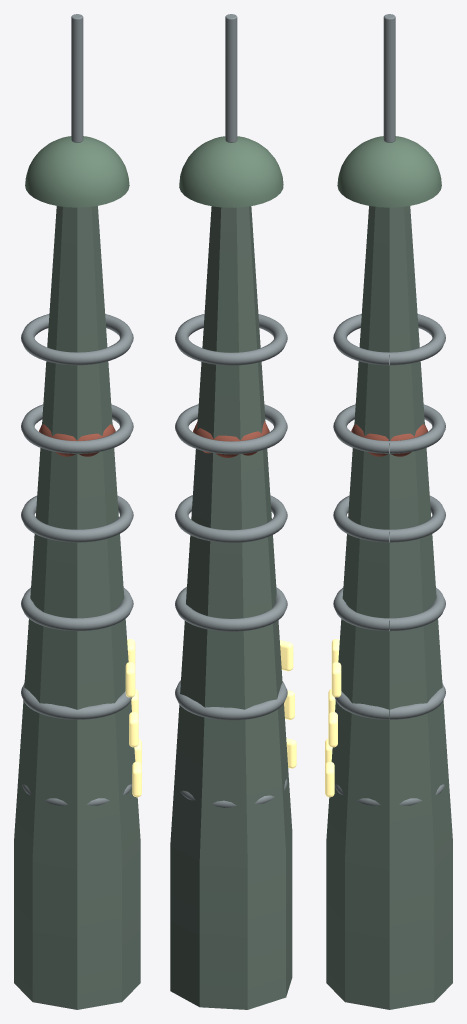
3 renders of one model, left to right at view 1: azimuth 90°, elevation 25°; view 2: azimuth 150°, elevation 25°; view 3: azimuth 270°, elevation 25°, orthographic.
Visible parts, largest first — view 1: Tapered spire, Sensor pickup cap, Sensor mast collar.007, Sensor mast collar.006, Sensor mast collar.005, Sensor mast collar.004, Aerial stem, Sensor mast collar.003, Spire collar, Inset service window.004, Sensor mast collar.002, Inset service window.002 (+1 smaller); view 2: Tapered spire, Sensor pickup cap, Sensor mast collar.007, Sensor mast collar.006, Sensor mast collar.005, Sensor mast collar.004, Aerial stem, Sensor mast collar.003, Spire collar, Inset service window.004, Sensor mast collar.002; view 3: Tapered spire, Sensor pickup cap, Sensor mast collar.007, Sensor mast collar.006, Sensor mast collar.005, Sensor mast collar.004, Aerial stem, Sensor mast collar.003, Spire collar, Inset service window.005, Sensor mast collar.002, Inset service window.003 (+1 smaller).
Part boxes in pixels (bbox=[...]): Tapered spire: bbox=[14, 206, 140, 1009]; Sensor pickup cap: bbox=[25, 136, 129, 207]; Sensor mast collar.007: bbox=[21, 314, 133, 365]; Sensor mast collar.006: bbox=[21, 404, 133, 453]; Sensor mast collar.005: bbox=[21, 495, 133, 542]; Sensor mast collar.004: bbox=[21, 587, 133, 631]; Aerial stem: bbox=[71, 14, 83, 142]; Sensor mast collar.003: bbox=[21, 683, 132, 719]; Spire collar: bbox=[39, 424, 115, 456]; Inset service window.004: bbox=[125, 662, 135, 697]; Sensor mast collar.002: bbox=[22, 784, 132, 805]; Inset service window.002: bbox=[129, 712, 138, 747]; Tapered spire: bbox=[170, 206, 292, 1009]; Sensor pickup cap: bbox=[179, 136, 283, 207]; Sensor mast collar.007: bbox=[175, 314, 287, 365]; Sensor mast collar.006: bbox=[175, 404, 287, 454]; Sensor mast collar.005: bbox=[175, 495, 287, 542]; Sensor mast collar.004: bbox=[175, 587, 287, 631]; Aerial stem: bbox=[225, 14, 237, 142]; Sensor mast collar.003: bbox=[175, 680, 287, 720]; Spire collar: bbox=[193, 421, 269, 457]; Inset service window.004: bbox=[280, 640, 293, 671]; Sensor mast collar.002: bbox=[180, 779, 287, 807]; Tapered spire: bbox=[326, 206, 452, 1009]; Sensor pickup cap: bbox=[337, 136, 441, 207]; Sensor mast collar.007: bbox=[333, 314, 445, 365]; Sensor mast collar.006: bbox=[333, 404, 445, 453]; Sensor mast collar.005: bbox=[333, 495, 445, 542]; Sensor mast collar.004: bbox=[333, 587, 445, 631]; Aerial stem: bbox=[383, 14, 395, 142]; Sensor mast collar.003: bbox=[334, 683, 445, 719]; Spire collar: bbox=[351, 424, 427, 456]; Inset service window.005: bbox=[331, 662, 341, 697]; Sensor mast collar.002: bbox=[334, 784, 444, 805]; Inset service window.003: bbox=[328, 712, 337, 747].
Bounding box in the file's own units: 0.46 × 3.88 × 0.4649.
